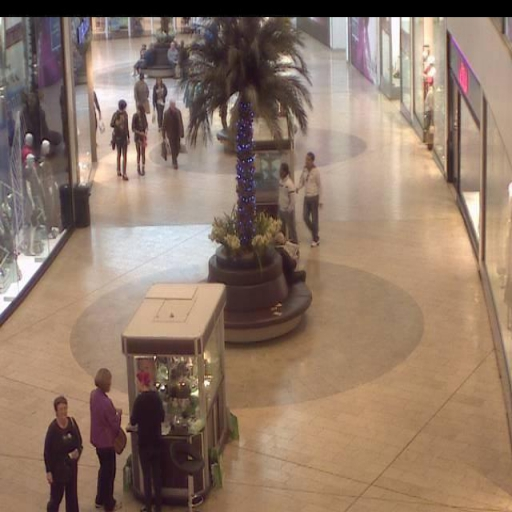person: (89, 366, 125, 512), (129, 368, 163, 512), (45, 396, 82, 512), (296, 150, 323, 248), (109, 97, 131, 180), (275, 158, 294, 244), (162, 97, 183, 167), (132, 103, 149, 176), (152, 73, 167, 129), (133, 71, 150, 111), (166, 40, 180, 78), (144, 41, 154, 72)
